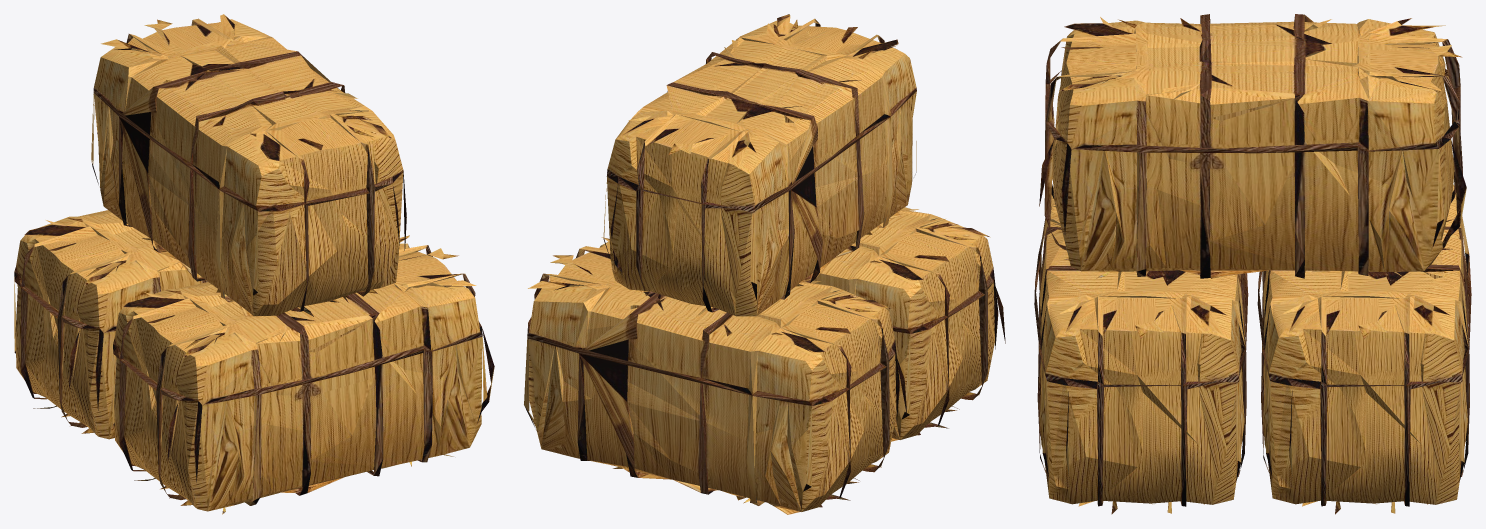
Rendered from hay-stack.glb.
3 views of the same model, side by side, from view 1: azimuth 30°, elevation 25°; view 2: azimuth 150°, elevation 25°; view 3: azimuth 270°, elevation 25° (orthographic). The views are drawn at different scales.
Size of the model in its own units: 0.9 by 0.9 by 0.92.
1 material, 1 textured.
